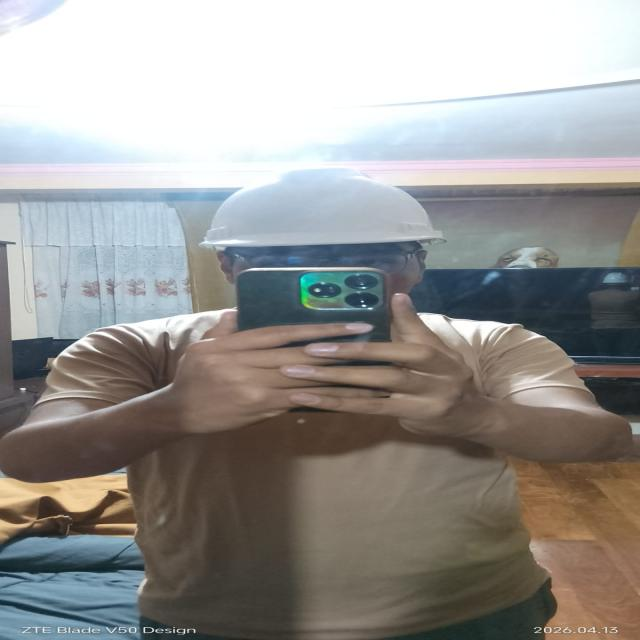casco: (169, 152, 464, 255)
